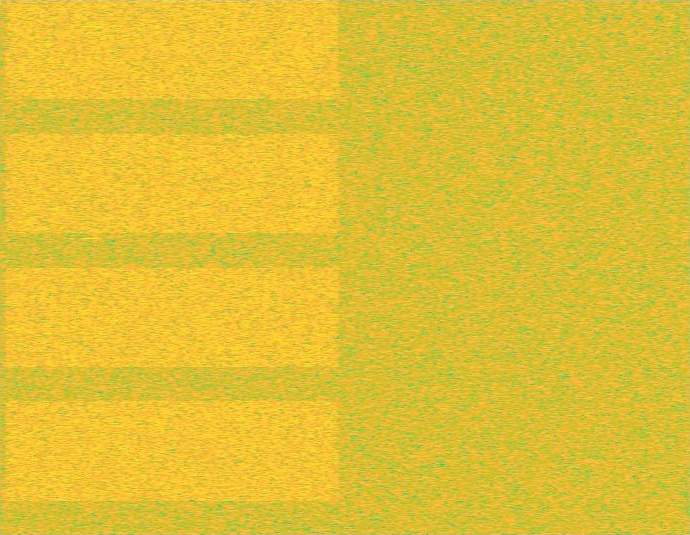5G: (0, 0, 345, 534)
Radar: (83, 0, 97, 534)
